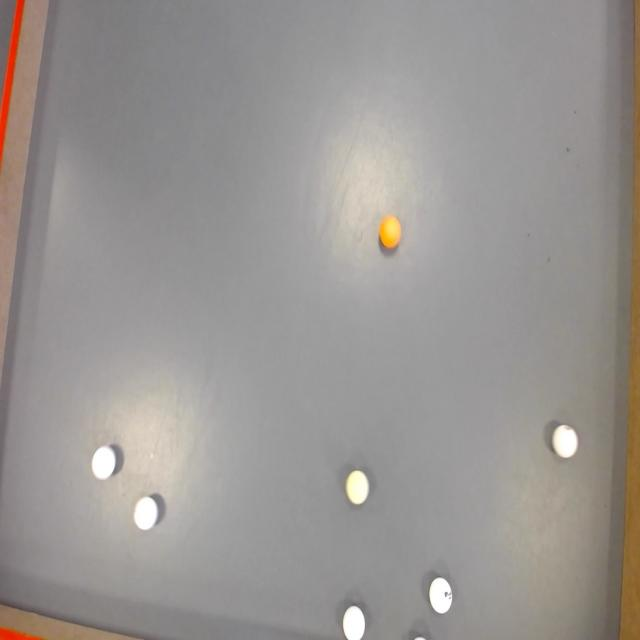orange-golf-balls: (378, 213, 402, 249)
white-golf-balls: (552, 425, 578, 460), (91, 445, 116, 481), (430, 576, 453, 614), (344, 470, 368, 505), (134, 496, 158, 530), (343, 607, 366, 640)
